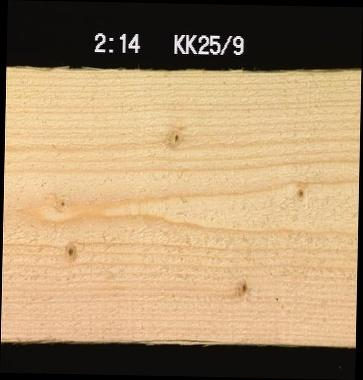small_knot: (230, 272, 250, 299), (164, 126, 183, 149), (61, 238, 79, 261), (53, 192, 70, 210), (292, 183, 307, 201)
